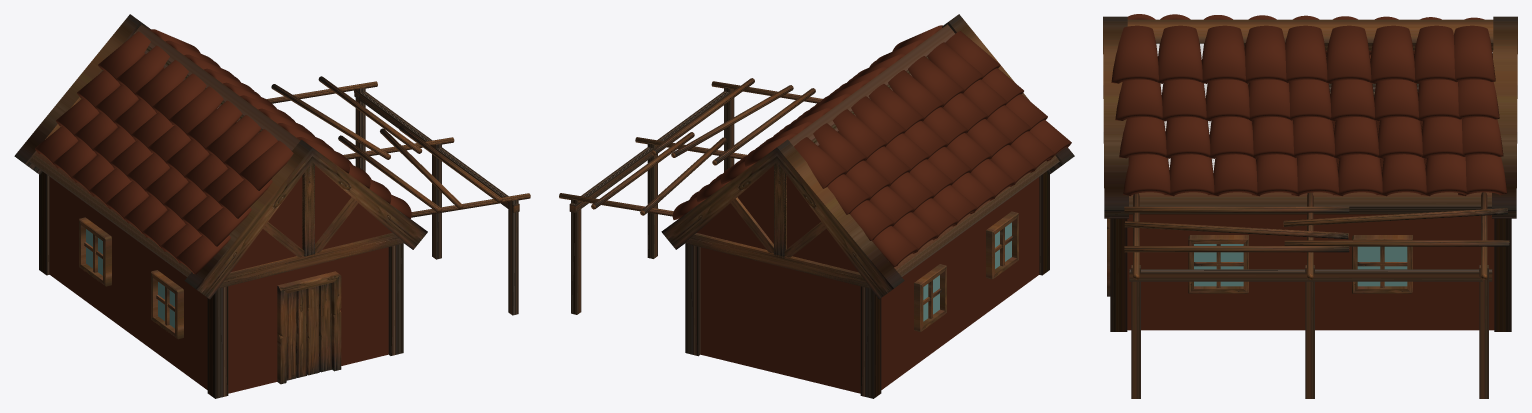
The model's file is SM_House_06 1.fbx.
The picture shows the model from 3 angles, left to right: view 1: azimuth 30°, elevation 25°; view 2: azimuth 150°, elevation 25°; view 3: azimuth 270°, elevation 25°; orthographic projection. The views are drawn at different scales.
Parts seen in each view (by area): view 1: Plane.011; view 2: Plane.011; view 3: Plane.011.
Boxes of the visible parts, x1=… form: Plane.011: x1=14, y1=14, x2=530, y2=398; Plane.011: x1=559, y1=14, x2=1074, y2=398; Plane.011: x1=1103, y1=14, x2=1517, y2=398.
Bounding box in the file's own units: 695 × 439 × 628.
Materials: 2 (1 with a texture image).
